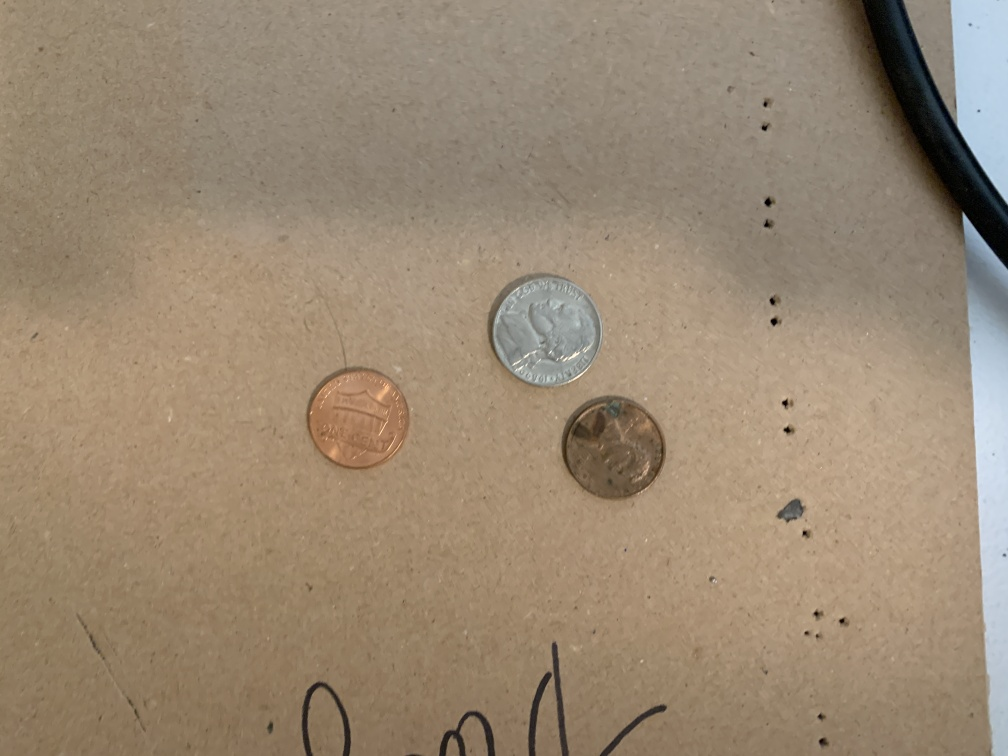nickel: (487, 272, 604, 389)
penny: (556, 394, 670, 504), (303, 364, 413, 477)
